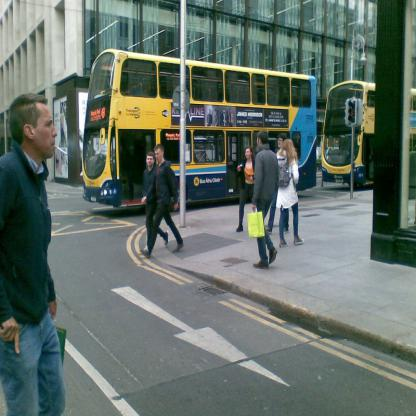smoking: (52, 144, 67, 156)
